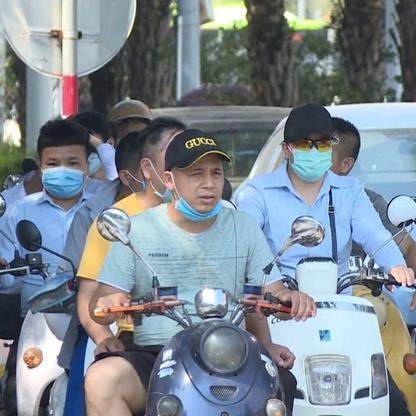target: (107, 130, 314, 413), (245, 103, 413, 410)
